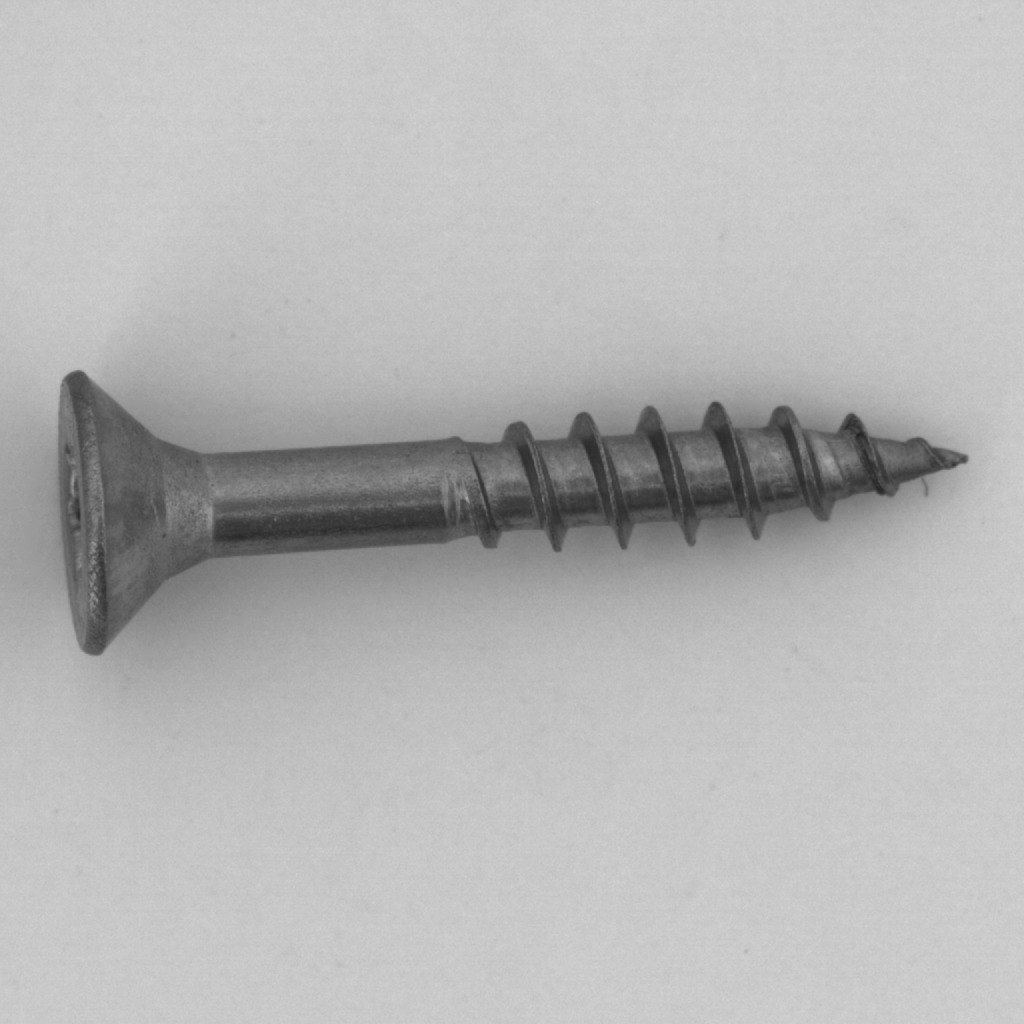good: (34, 351, 985, 671)
